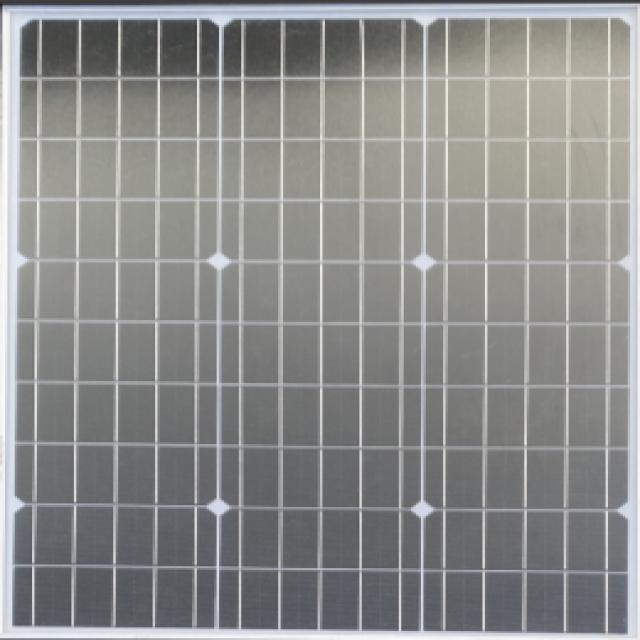clean-solar-panel: (16, 19, 630, 631)
